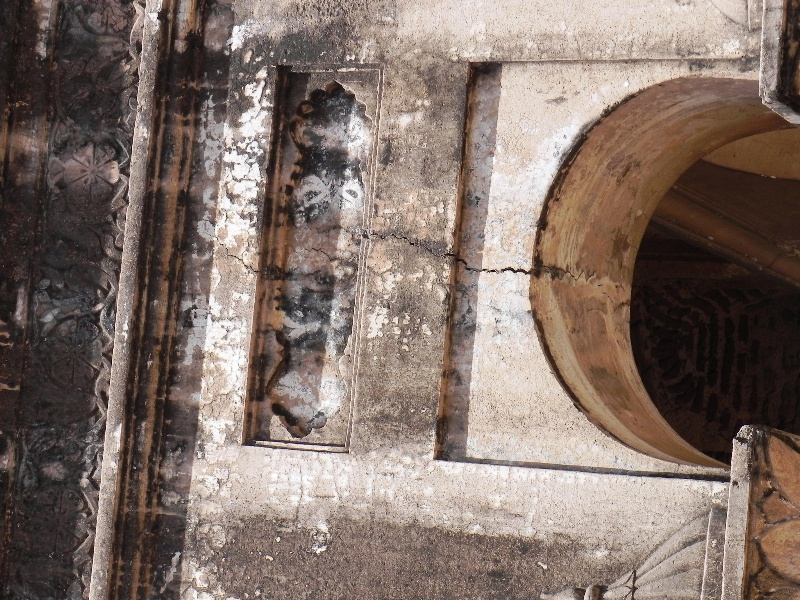Crack: (456, 251, 533, 279)
